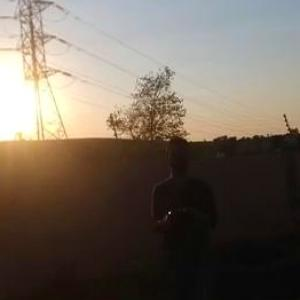follow: (146, 132, 224, 299)
